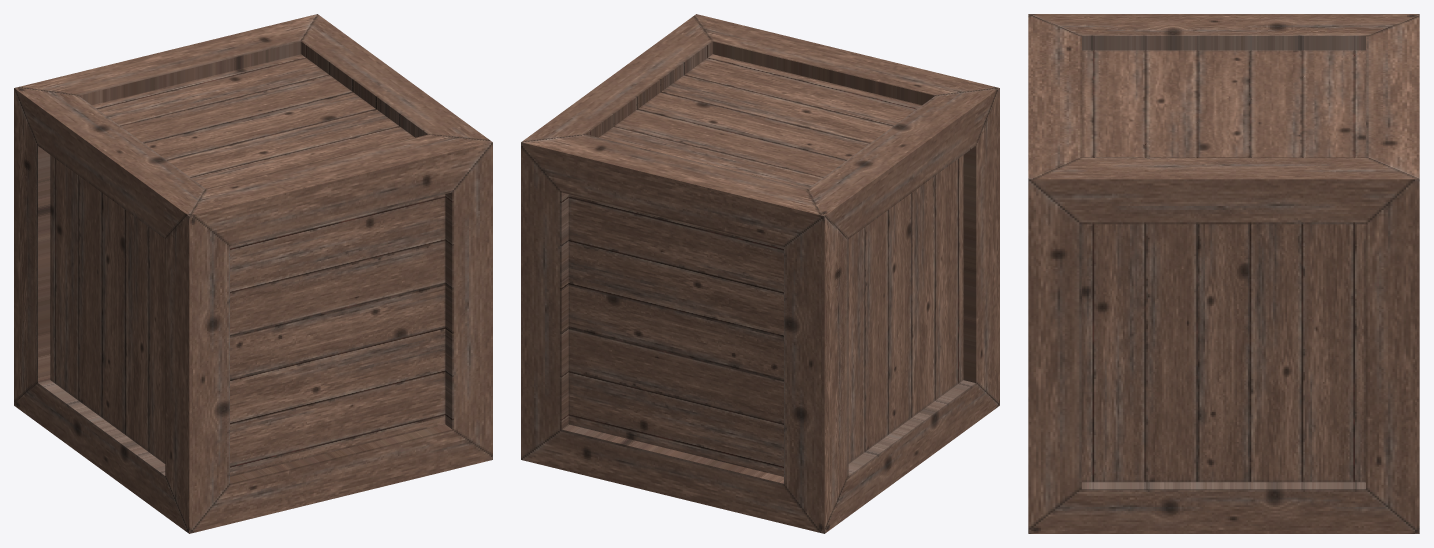
File: Shipping crate.fbx
3 views of the same model, side by side, from view 1: azimuth 30°, elevation 25°; view 2: azimuth 150°, elevation 25°; view 3: azimuth 270°, elevation 25° (orthographic). The views are drawn at different scales.
Parts seen in each view (by area): view 1: pCube1; view 2: pCube1; view 3: pCube1.
Part boxes in pixels (<box>): pCube1: <box>14,14,492,533</box>; pCube1: <box>521,14,999,533</box>; pCube1: <box>1028,14,1419,533</box>.
Bounding box in the file's own units: 1 × 1 × 1.
